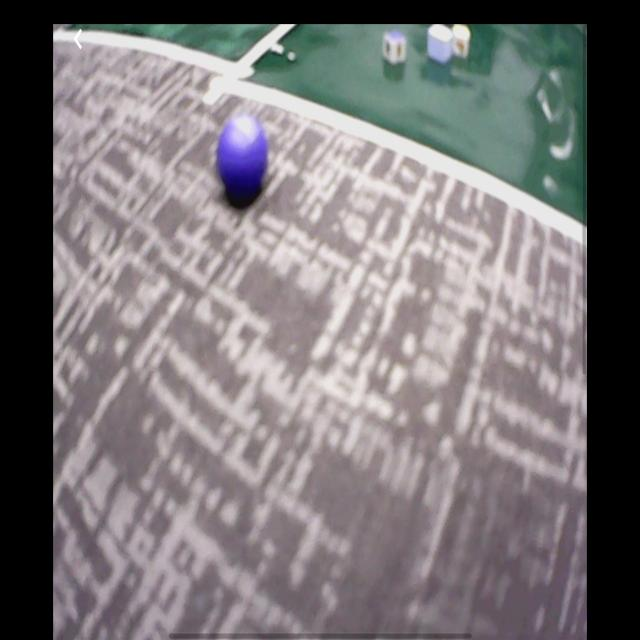ball: (217, 118, 270, 202)
